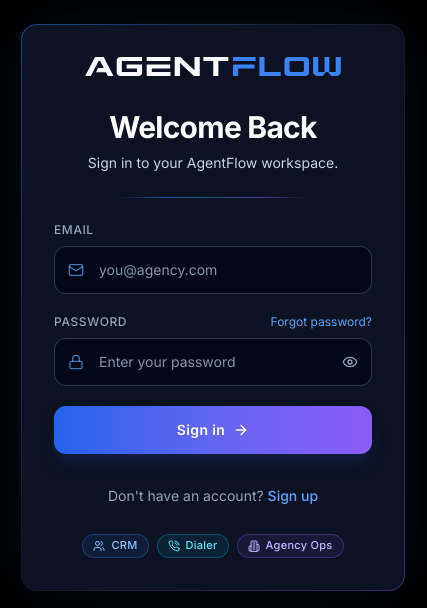
Test: LoginPage (canonical /login) › sends a fully onboarded user to /dashboard
In the field labelled "Email": (213, 270) [54, 246, 372, 294], type "agent@agency.com"
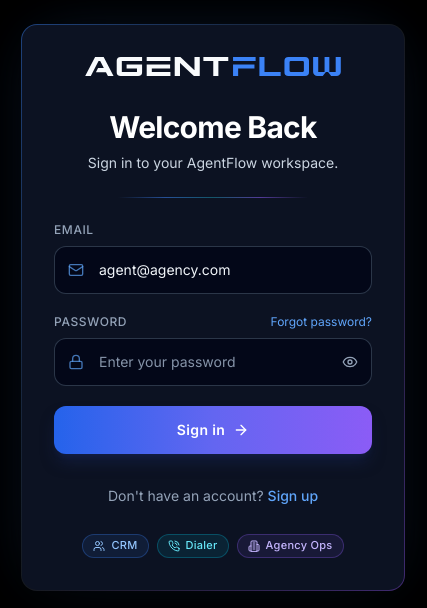
In the password field labelled "Password": (213, 362) [54, 338, 372, 386], type "correct-horse"
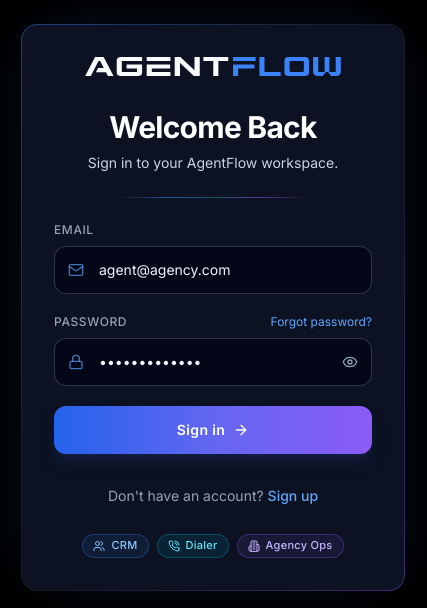
Click the button "Sign in": (213, 430) [54, 406, 372, 454]
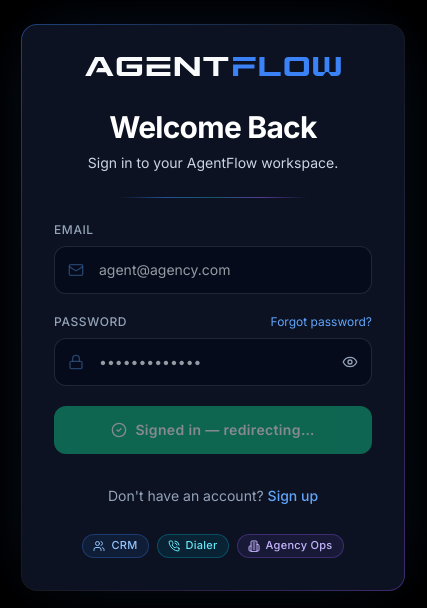
Result: the button "Signed in — redirecting…" is shown at [54, 406, 372, 454]
